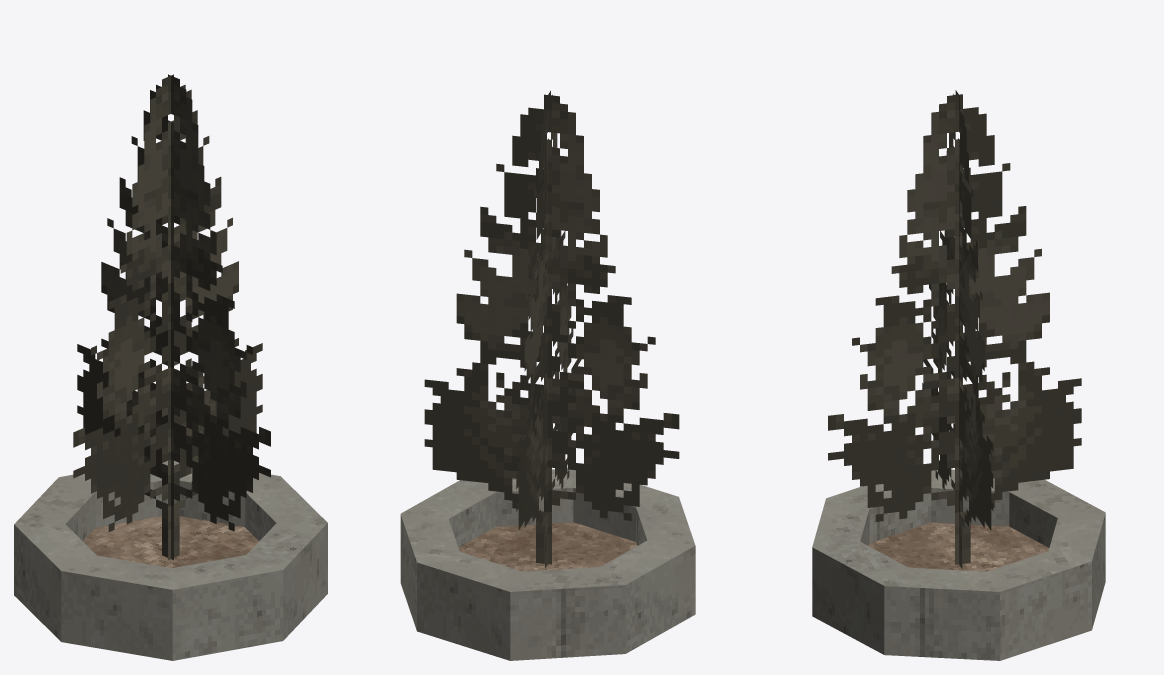
File: procgen-procpain-tree-park-pine-large-x0zm1.obj
3 views of the same model, side by side, from view 1: azimuth 30°, elevation 25°; view 2: azimuth 150°, elevation 25°; view 3: azimuth 270°, elevation 25° (orthographic). The views are drawn at different scales.
Bounding box in the file's own units: 6.8 × 9.92 × 6.8.
